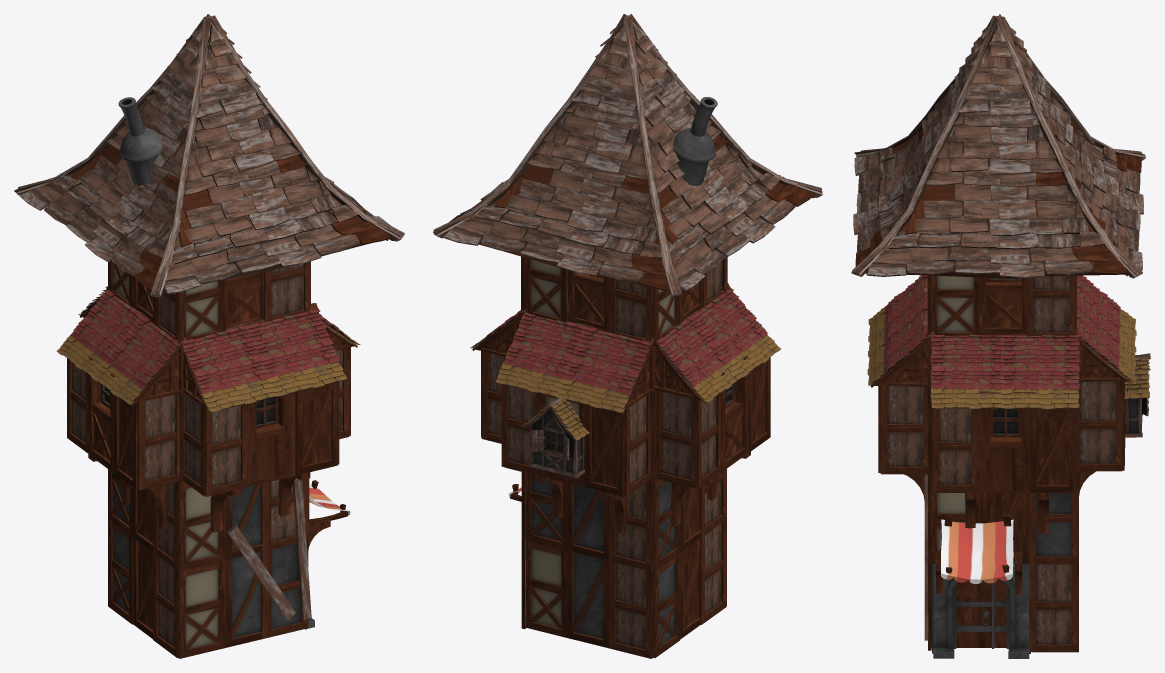
The model's file is Building_8.fbx.
The picture shows the model from 3 angles, left to right: view 1: azimuth 30°, elevation 25°; view 2: azimuth 150°, elevation 25°; view 3: azimuth 270°, elevation 25°; orthographic projection.
Parts seen in each view (by area): view 1: Building_8_LOD0; view 2: Building_8_LOD0; view 3: Building_8_LOD0.
Part boxes in pixels (x1,y1,x2,y2): Building_8_LOD0: [14, 14, 404, 658]; Building_8_LOD0: [433, 14, 822, 658]; Building_8_LOD0: [851, 14, 1150, 658].
Size of what is drawn, in the model's own units: 1352 by 3073 by 1373.
